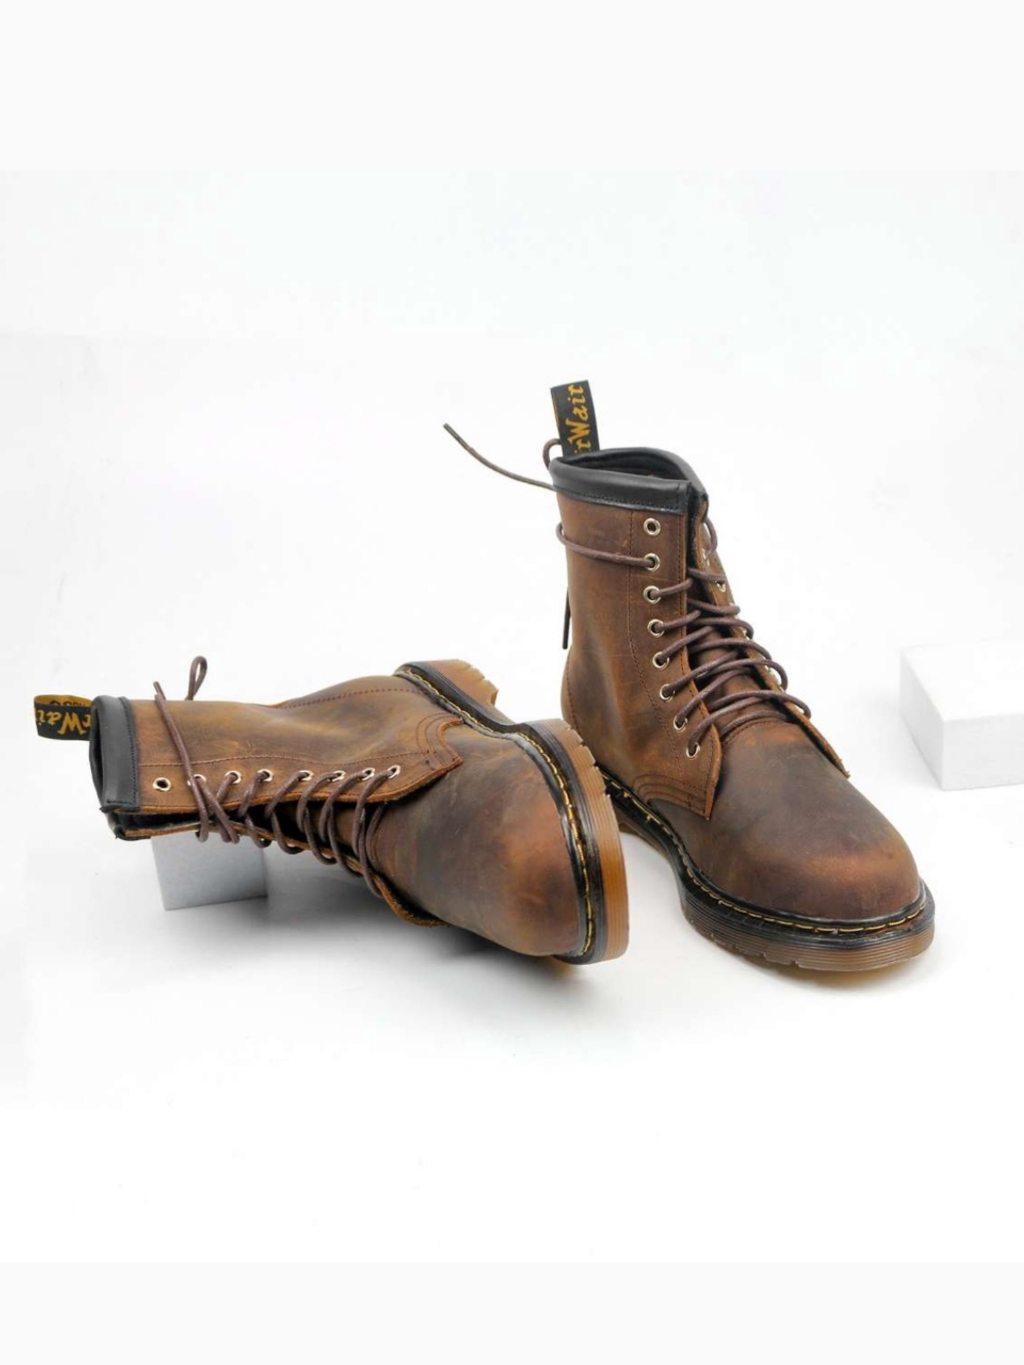boots: (546, 371, 943, 977), (29, 653, 631, 977)
